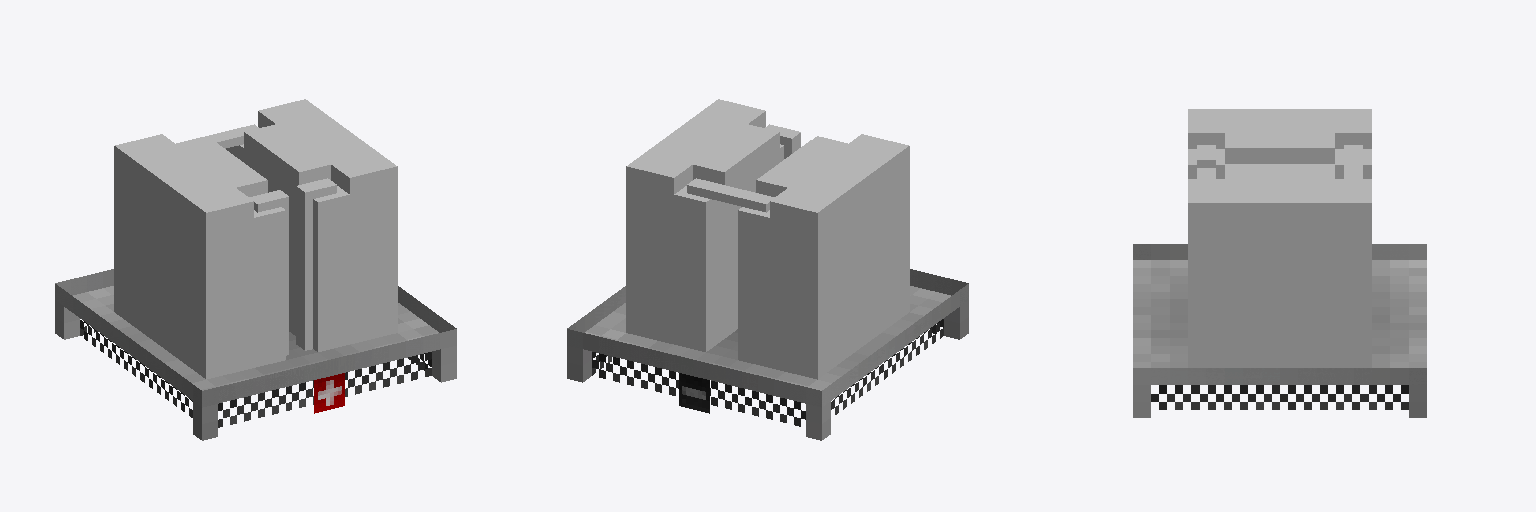
The picture shows the model from 3 angles: view 1: azimuth 30°, elevation 25°; view 2: azimuth 150°, elevation 25°; view 3: azimuth 270°, elevation 25°; orthographic projection.
Parts seen in each view (by area): view 1: battery_highvoltage, main, plugPlus; view 2: battery_highvoltage, main, plusMinus_plugMinus; view 3: battery_highvoltage, main.
Part boxes in pixels (left/top/right/bottom): battery_highvoltage: left=114, top=99, right=397, bottom=379; main: left=55, top=269, right=456, bottom=440; plugPlus: left=314, top=373, right=344, bottom=413; battery_highvoltage: left=626, top=99, right=909, bottom=379; main: left=567, top=269, right=968, bottom=440; plusMinus_plugMinus: left=679, top=373, right=709, bottom=413; battery_highvoltage: left=1188, top=109, right=1371, bottom=367; main: left=1133, top=244, right=1426, bottom=417.
Size of the model in its own units: 1 by 0.75 by 1.
2 materials, 1 textured.